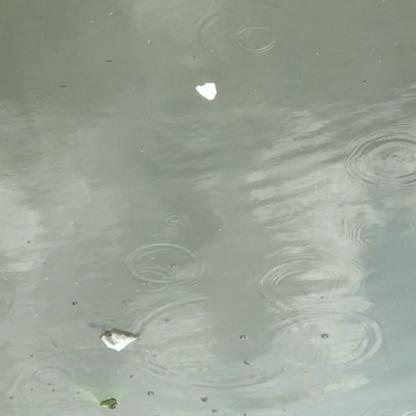Trash: (100, 327, 137, 357), (194, 80, 218, 104)
